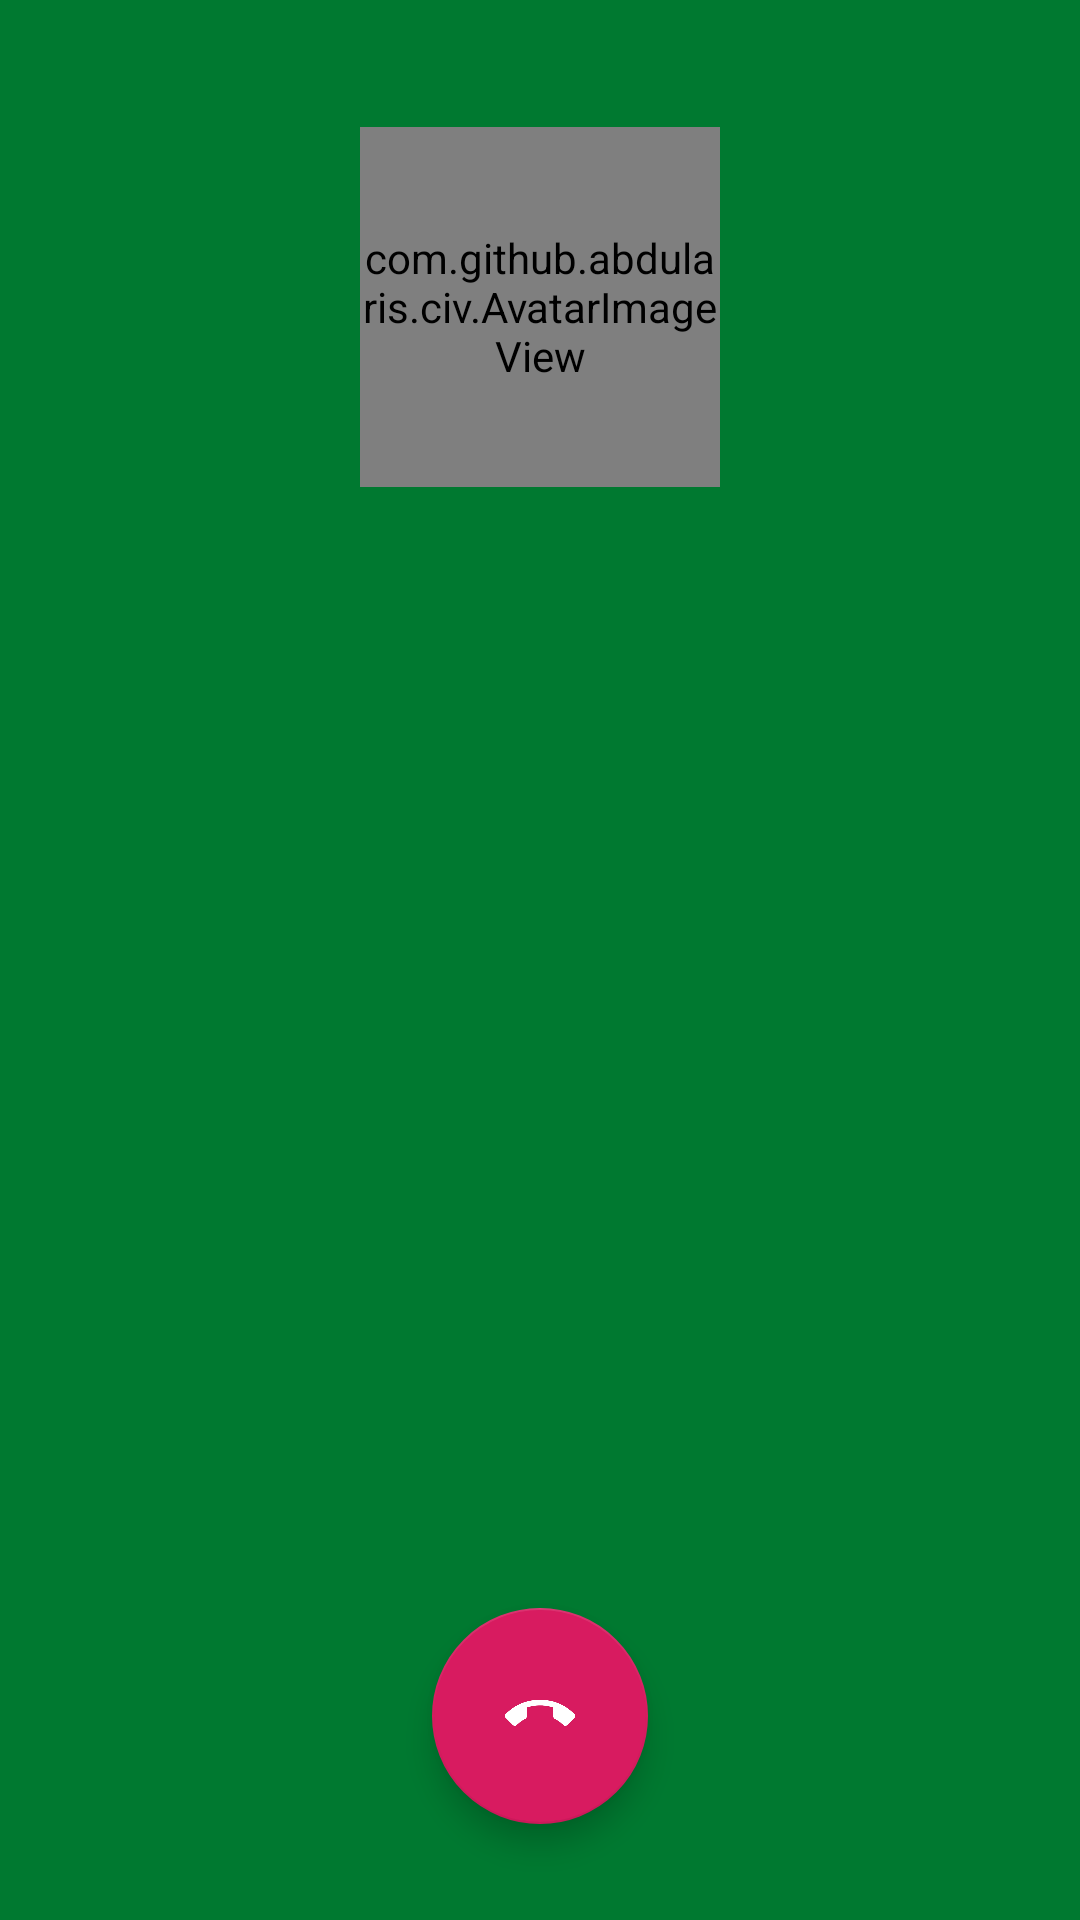

Locate icon controls on the screen. Image size 1080w x 1920h, boxes as (x1, y1, x2, y2).
hang up: (432, 1608, 648, 1824)
